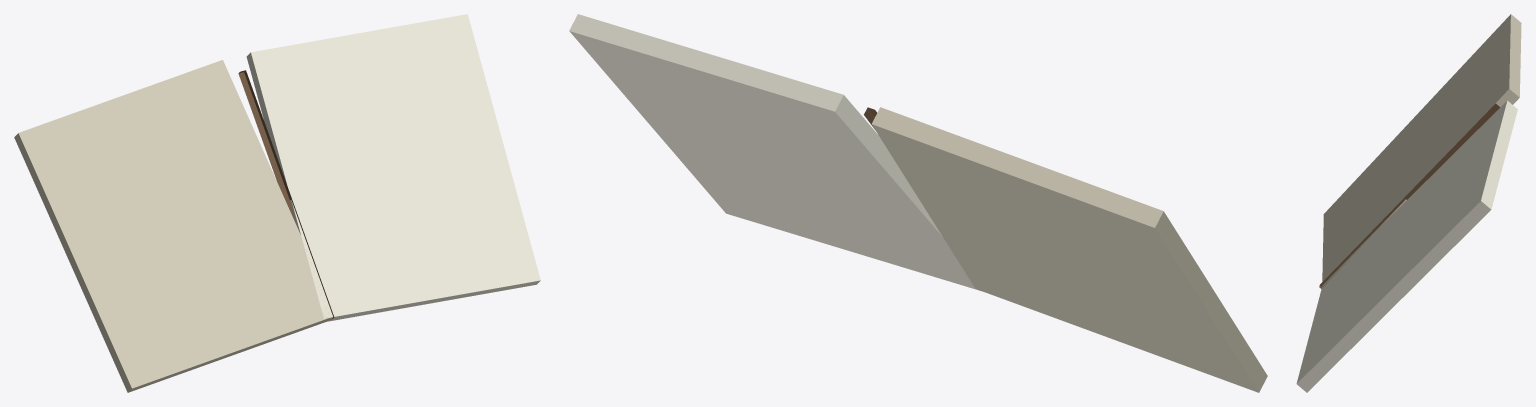
File: sheet-music.glb
3 views of the same model, side by side, from view 1: azimuth 30°, elevation 25°; view 2: azimuth 150°, elevation 25°; view 3: azimuth 270°, elevation 25° (orthographic). The views are drawn at different scales.
Visible parts, largest first — view 1: open_score; view 2: open_score; view 3: open_score.
Part boxes in pixels (<box>): open_score: <box>14,14,540,392</box>; open_score: <box>569,14,1267,392</box>; open_score: <box>1296,14,1521,392</box>.
Size of the model in its own units: 0.6372 by 0.3158 by 0.2869.
